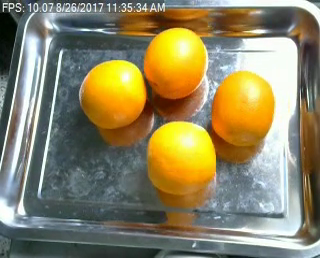Orange: (147, 121, 216, 195), (211, 70, 273, 146), (78, 58, 146, 127), (144, 27, 208, 98)
